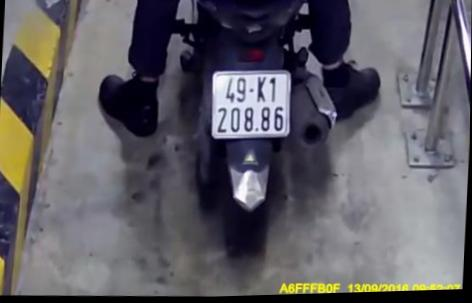LP: (208, 68, 294, 144)
